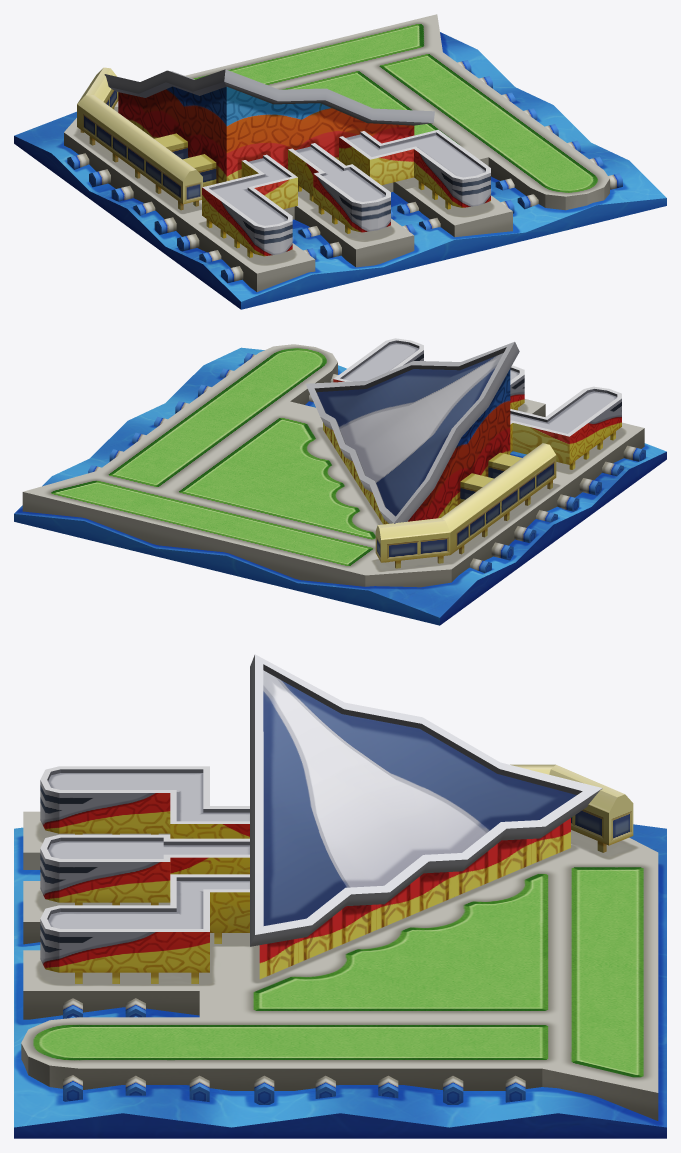
Rendered from youlunmatou.FBX.
The picture shows the model from 3 angles, top to bottom: view 1: azimuth 30°, elevation 25°; view 2: azimuth 150°, elevation 25°; view 3: azimuth 270°, elevation 25°; orthographic projection. The views are drawn at different scales.
Visible parts, largest first — view 1: youlunmatou; view 2: youlunmatou; view 3: youlunmatou.
Part boxes in pixels (x1=…): youlunmatou: x1=14, y1=14, x2=666, y2=309; youlunmatou: x1=14, y1=338, x2=666, y2=625; youlunmatou: x1=14, y1=654, x2=666, y2=1138.
Size of the model in its own units: 3592 by 1309 by 3317.
1 material, 1 textured.
